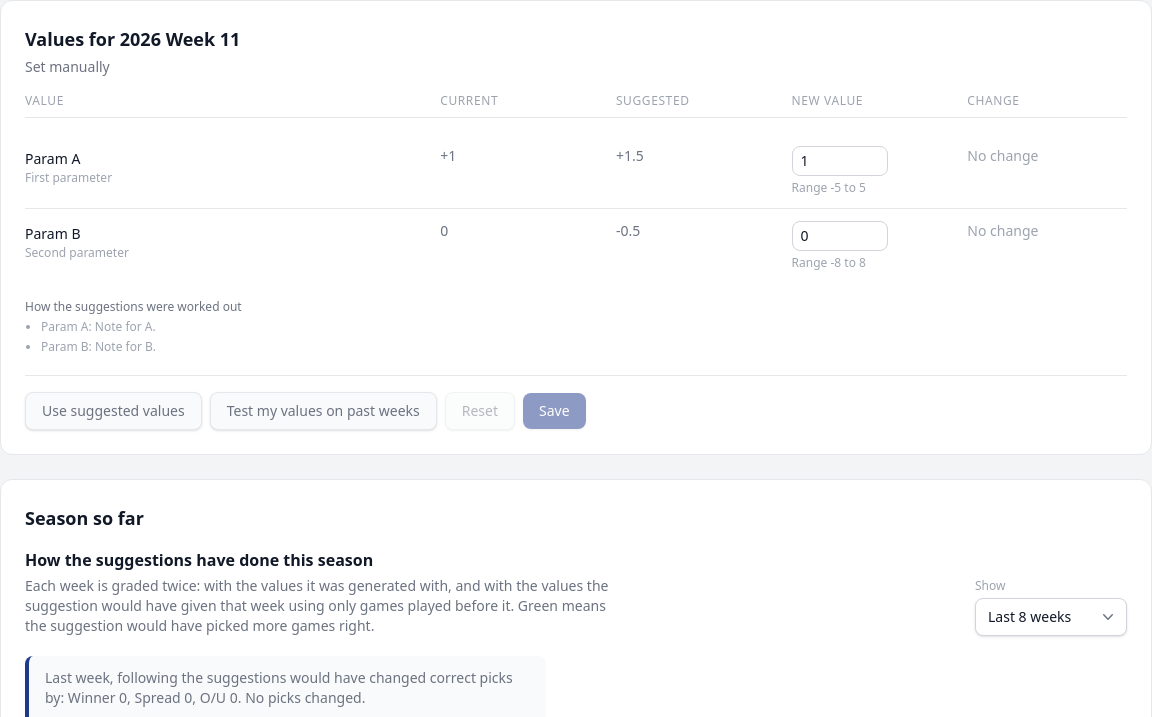
Test: PredictionCalibrationSection › shows the server message when saving fails
The width and height of the screenshot is (1152, 717).
Replace the text in the number field labelled "Param B" with "1" at (840, 236), box [792,221,888,251]
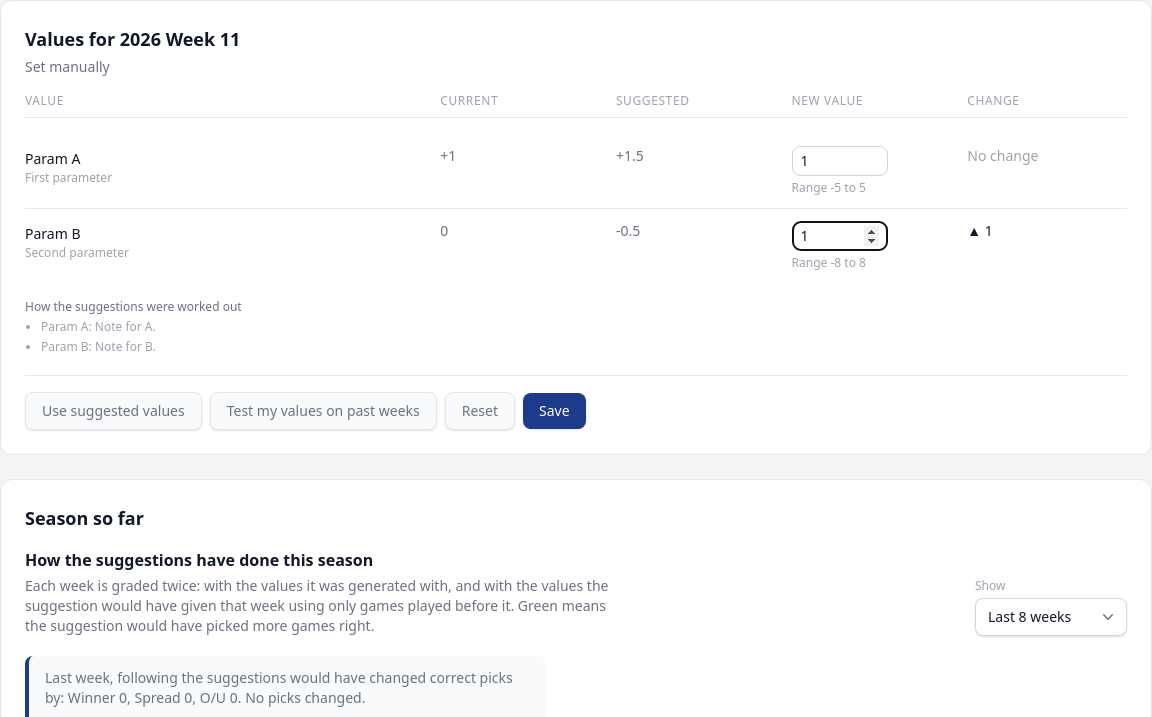
Click the button "Save" at (554, 411), box [523,393,586,429]
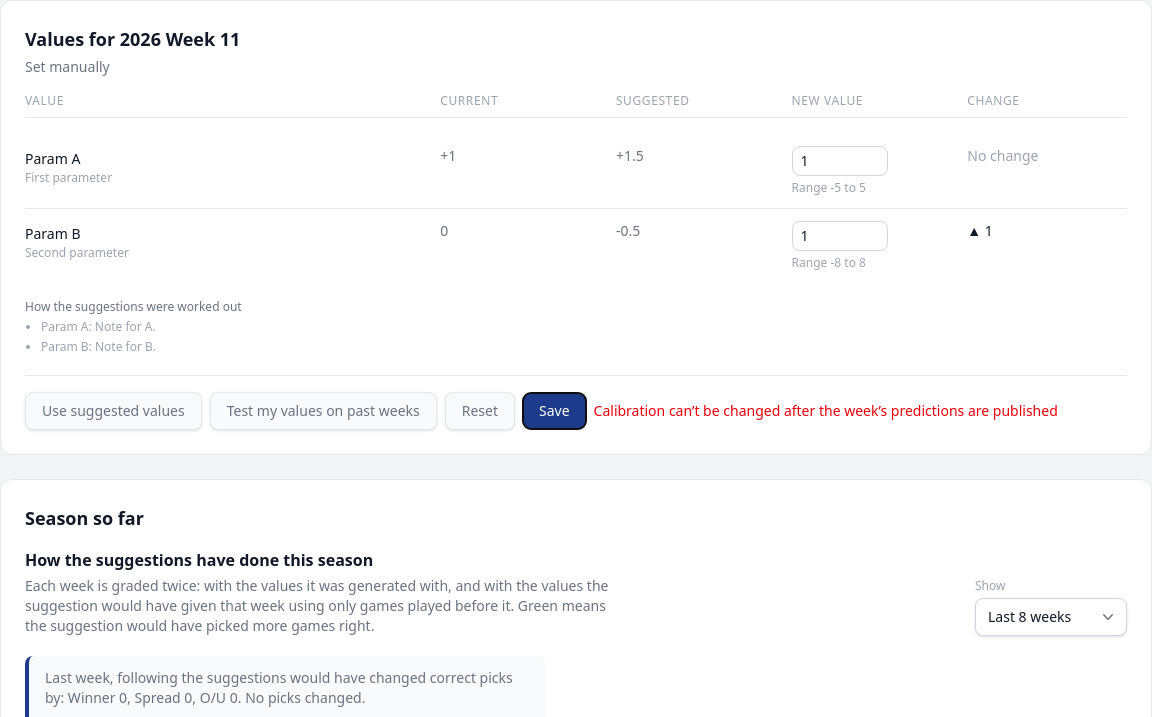
Expected: the message shows "published", [594,401,1058,420]
